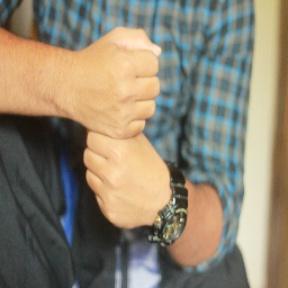G: (69, 26, 178, 232)
